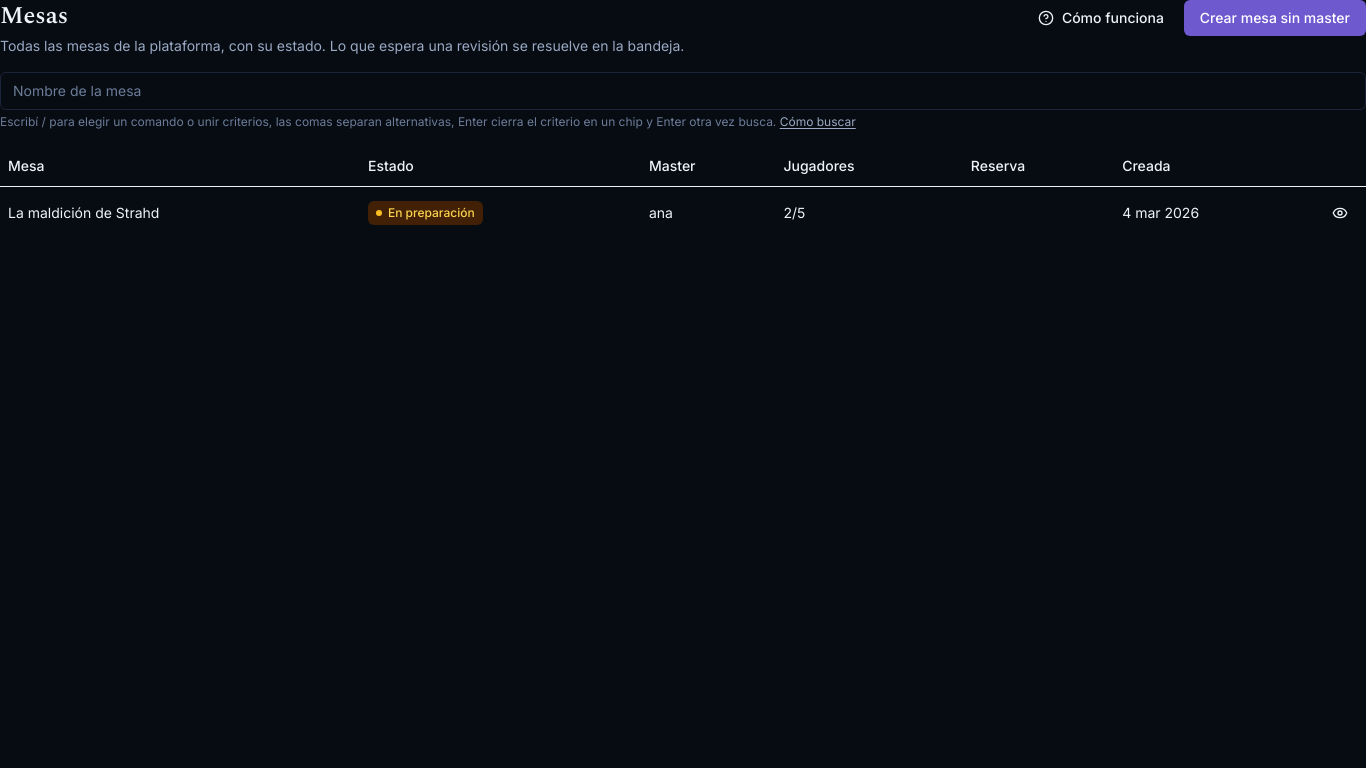
Scenario: AdminTablesPage › says where reviewing happens, from the screen that lists the tables
Click the button "Cómo funciona": (1101,18) [1026, 0, 1176, 36]
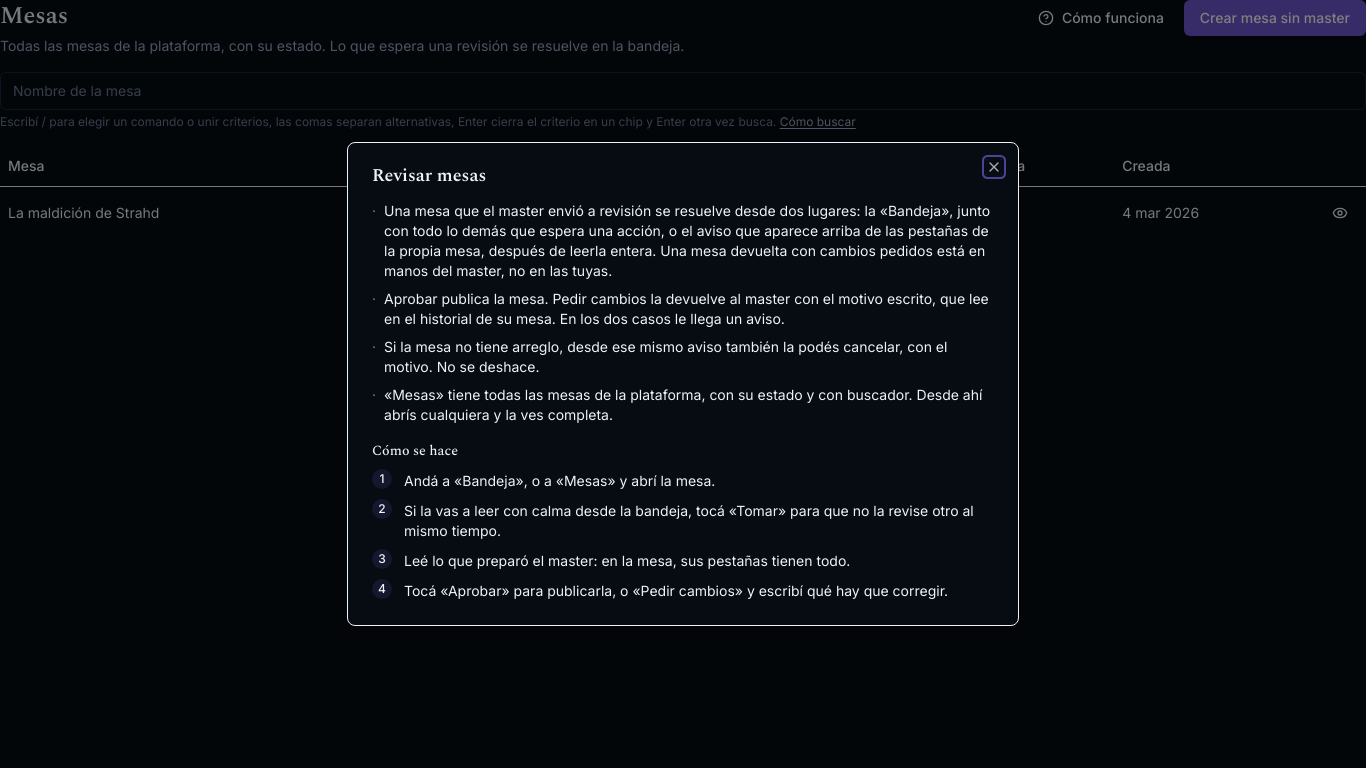
Expected: the text "se resuelve desde dos lugares: la «Bandeja»" is shown, [384, 202, 990, 279]
Expected: the text "«Mesas» tiene todas las mesas" is shown, [384, 386, 982, 423]
